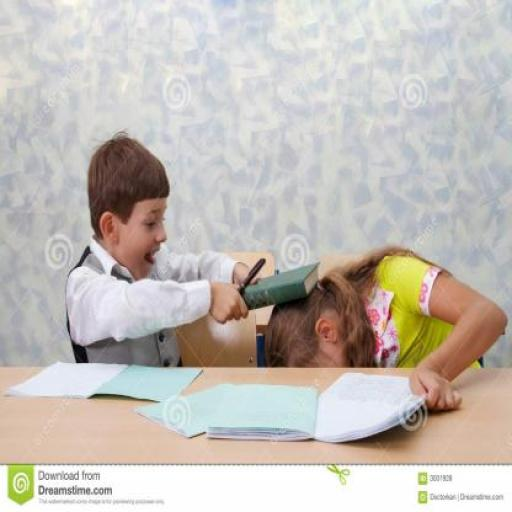Fighting: (66, 126, 510, 442)
